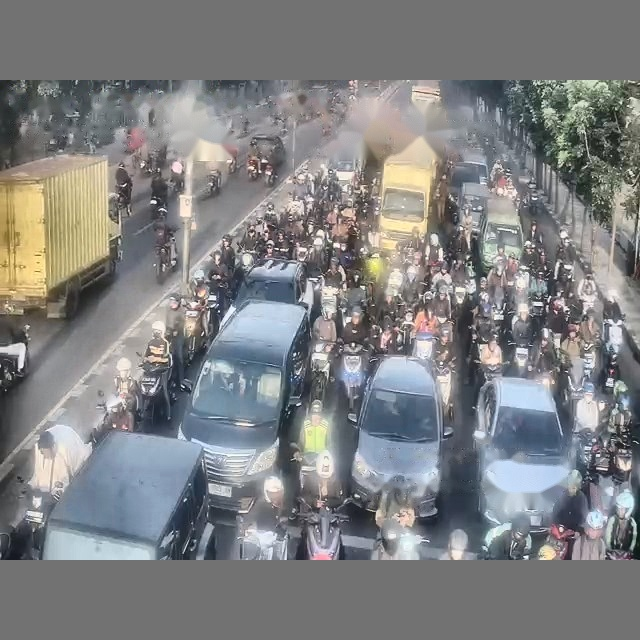Mobil: (178, 301, 310, 512), (42, 431, 215, 559), (348, 355, 452, 518), (473, 377, 572, 532), (221, 258, 314, 325), (249, 134, 285, 167)
Motor: (297, 499, 351, 559), (24, 483, 61, 559), (91, 391, 136, 445), (139, 356, 172, 424), (0, 324, 29, 390), (341, 343, 368, 411), (184, 301, 207, 365), (310, 342, 333, 402), (434, 360, 453, 419), (545, 524, 575, 559), (154, 244, 176, 283), (412, 331, 433, 359), (149, 197, 167, 220), (206, 170, 221, 196), (247, 157, 259, 181), (264, 163, 275, 186)
Truk: (0, 154, 121, 318), (379, 137, 438, 250)
